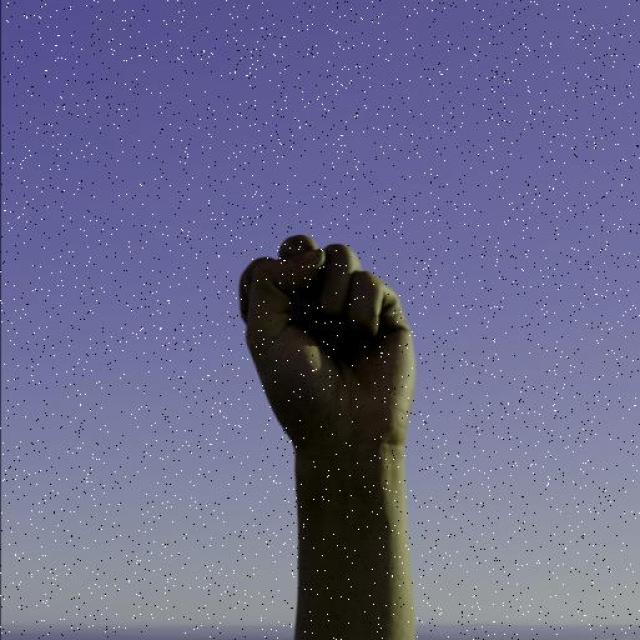S: (235, 229, 419, 457)
